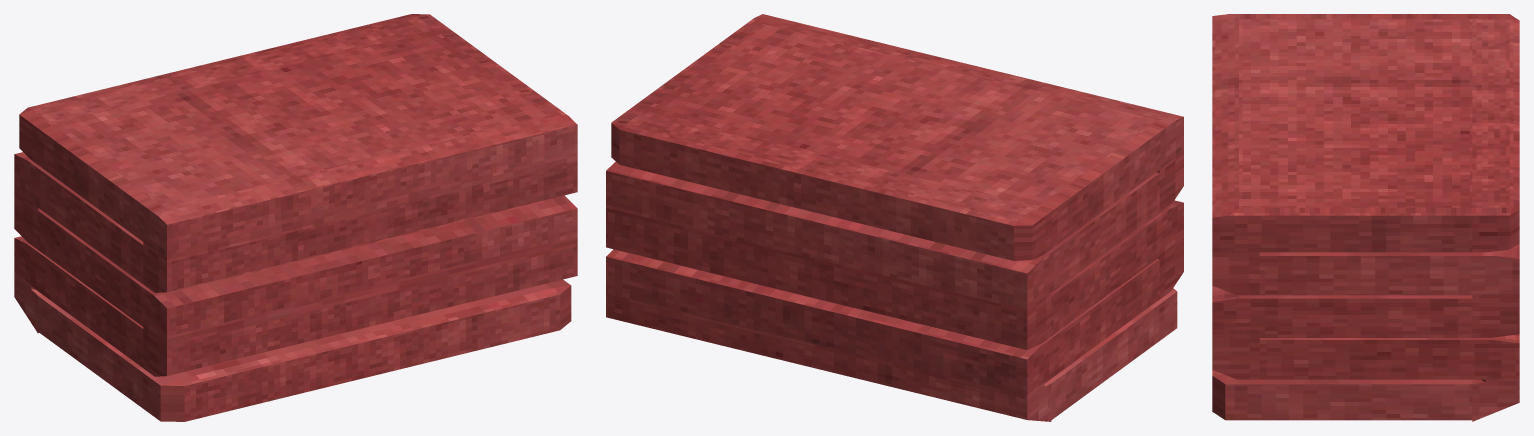
Rendered from blanket.fbx.
The picture shows the model from 3 angles, left to right: view 1: azimuth 30°, elevation 25°; view 2: azimuth 150°, elevation 25°; view 3: azimuth 270°, elevation 25°; orthographic projection. The views are drawn at different scales.
Parts seen in each view (by area): view 1: bedding; view 2: bedding; view 3: bedding.
Part boxes in pixels (<box>): bedding: <box>14,14,577,421</box>; bedding: <box>606,14,1183,421</box>; bedding: <box>1212,14,1519,421</box>.
Bounding box in the file's own units: 340 × 163 × 219.
